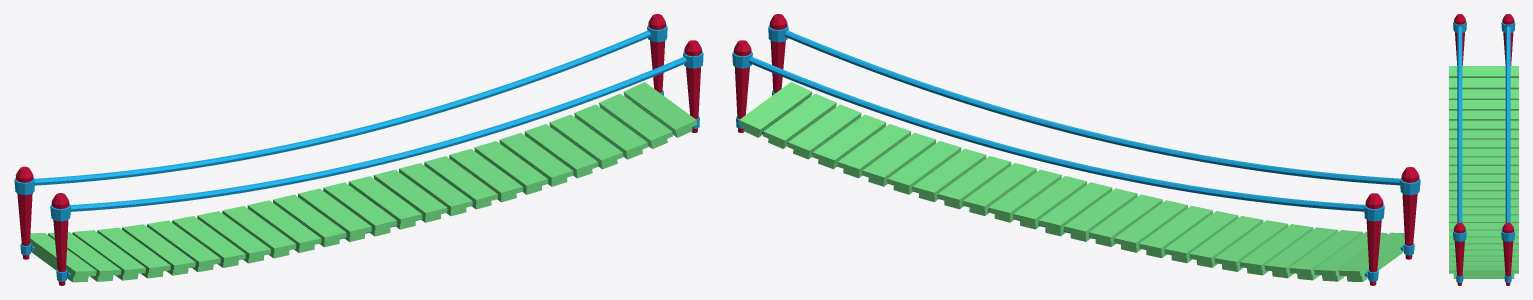
Rendered from Most.fbx.
The picture shows the model from 3 angles, left to right: view 1: azimuth 30°, elevation 25°; view 2: azimuth 150°, elevation 25°; view 3: azimuth 270°, elevation 25°; orthographic projection. The views are drawn at different scales.
Visible parts, largest first — view 1: Cylinder_1_Cylinder_Cube_1; view 2: Cylinder_1_Cylinder_Cube_1; view 3: Cylinder_1_Cylinder_Cube_1.
Part boxes in pixels (box(x1,y1,x2,y2)): Cylinder_1_Cylinder_Cube_1: box(14, 14, 703, 285); Cylinder_1_Cylinder_Cube_1: box(732, 14, 1420, 285); Cylinder_1_Cylinder_Cube_1: box(1449, 14, 1518, 285).
Size of the model in its own units: 418 by 69.86 by 57.87.
